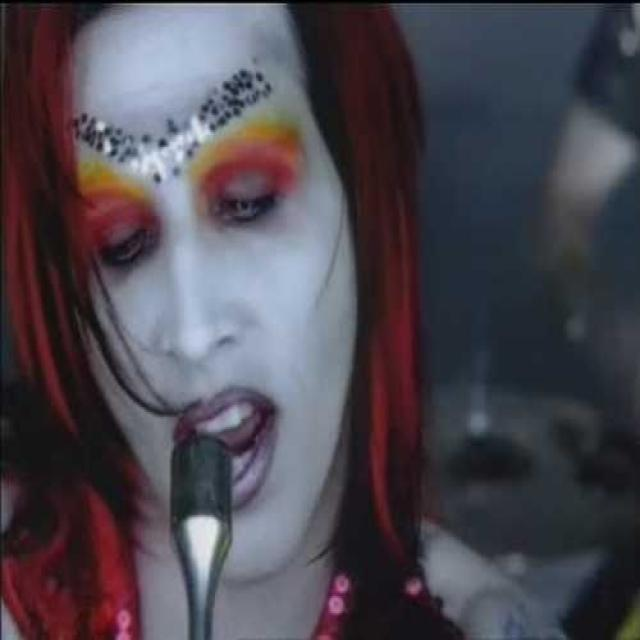microphone: (168, 431, 236, 640)
